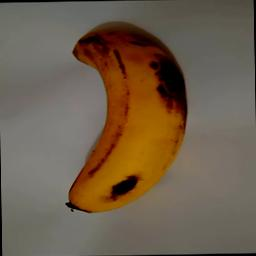Banana Unripe: (68, 28, 189, 216)
